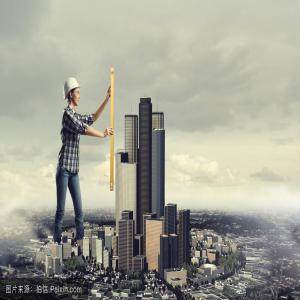white: (63, 78, 81, 108)
